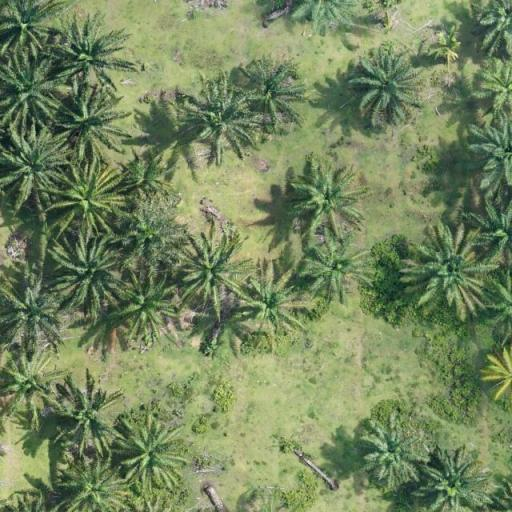Ganoderma: (186, 247, 232, 291), (246, 286, 290, 328), (428, 32, 462, 66)
